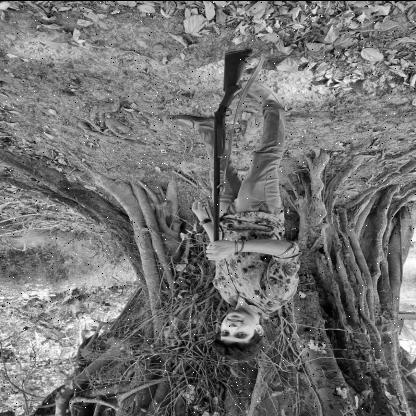rifle: (206, 46, 256, 257)
